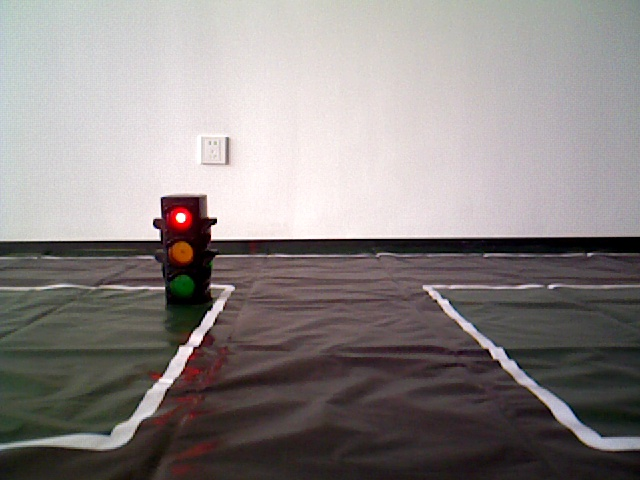red: (164, 199, 208, 305)
